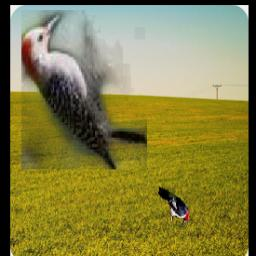Woodpecker: (22, 10, 148, 169), (159, 186, 190, 228)
